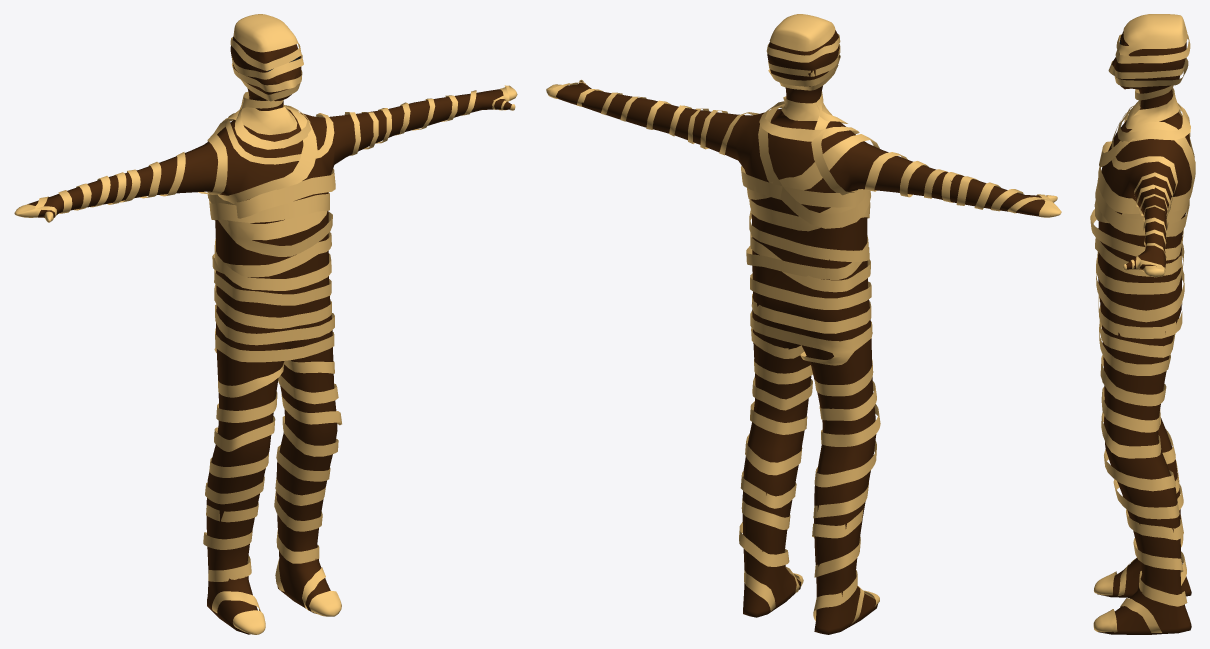
File: Mummy.fbx
The picture shows the model from 3 angles, left to right: view 1: azimuth 30°, elevation 25°; view 2: azimuth 150°, elevation 25°; view 3: azimuth 270°, elevation 25°; orthographic projection. The views are drawn at different scales.
Visible parts, largest first — view 1: Plane002, Plane001; view 2: Plane001, Plane002; view 3: Plane002, Plane001.
Part boxes in pixels (x1,y1,x2,y2): Plane002: (14,14,517,634); Plane001: (27,36,511,634); Plane001: (556,30,1047,634); Plane002: (546,14,1061,623); Plane002: (1090,14,1195,632); Plane001: (1097,31,1191,634).
Size of the model in its own units: 53.3 by 59.3 by 9.57.
